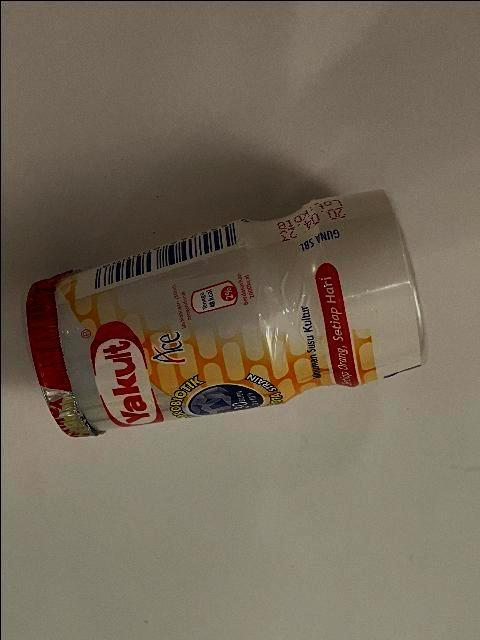plasticbottle: (22, 185, 430, 438)
